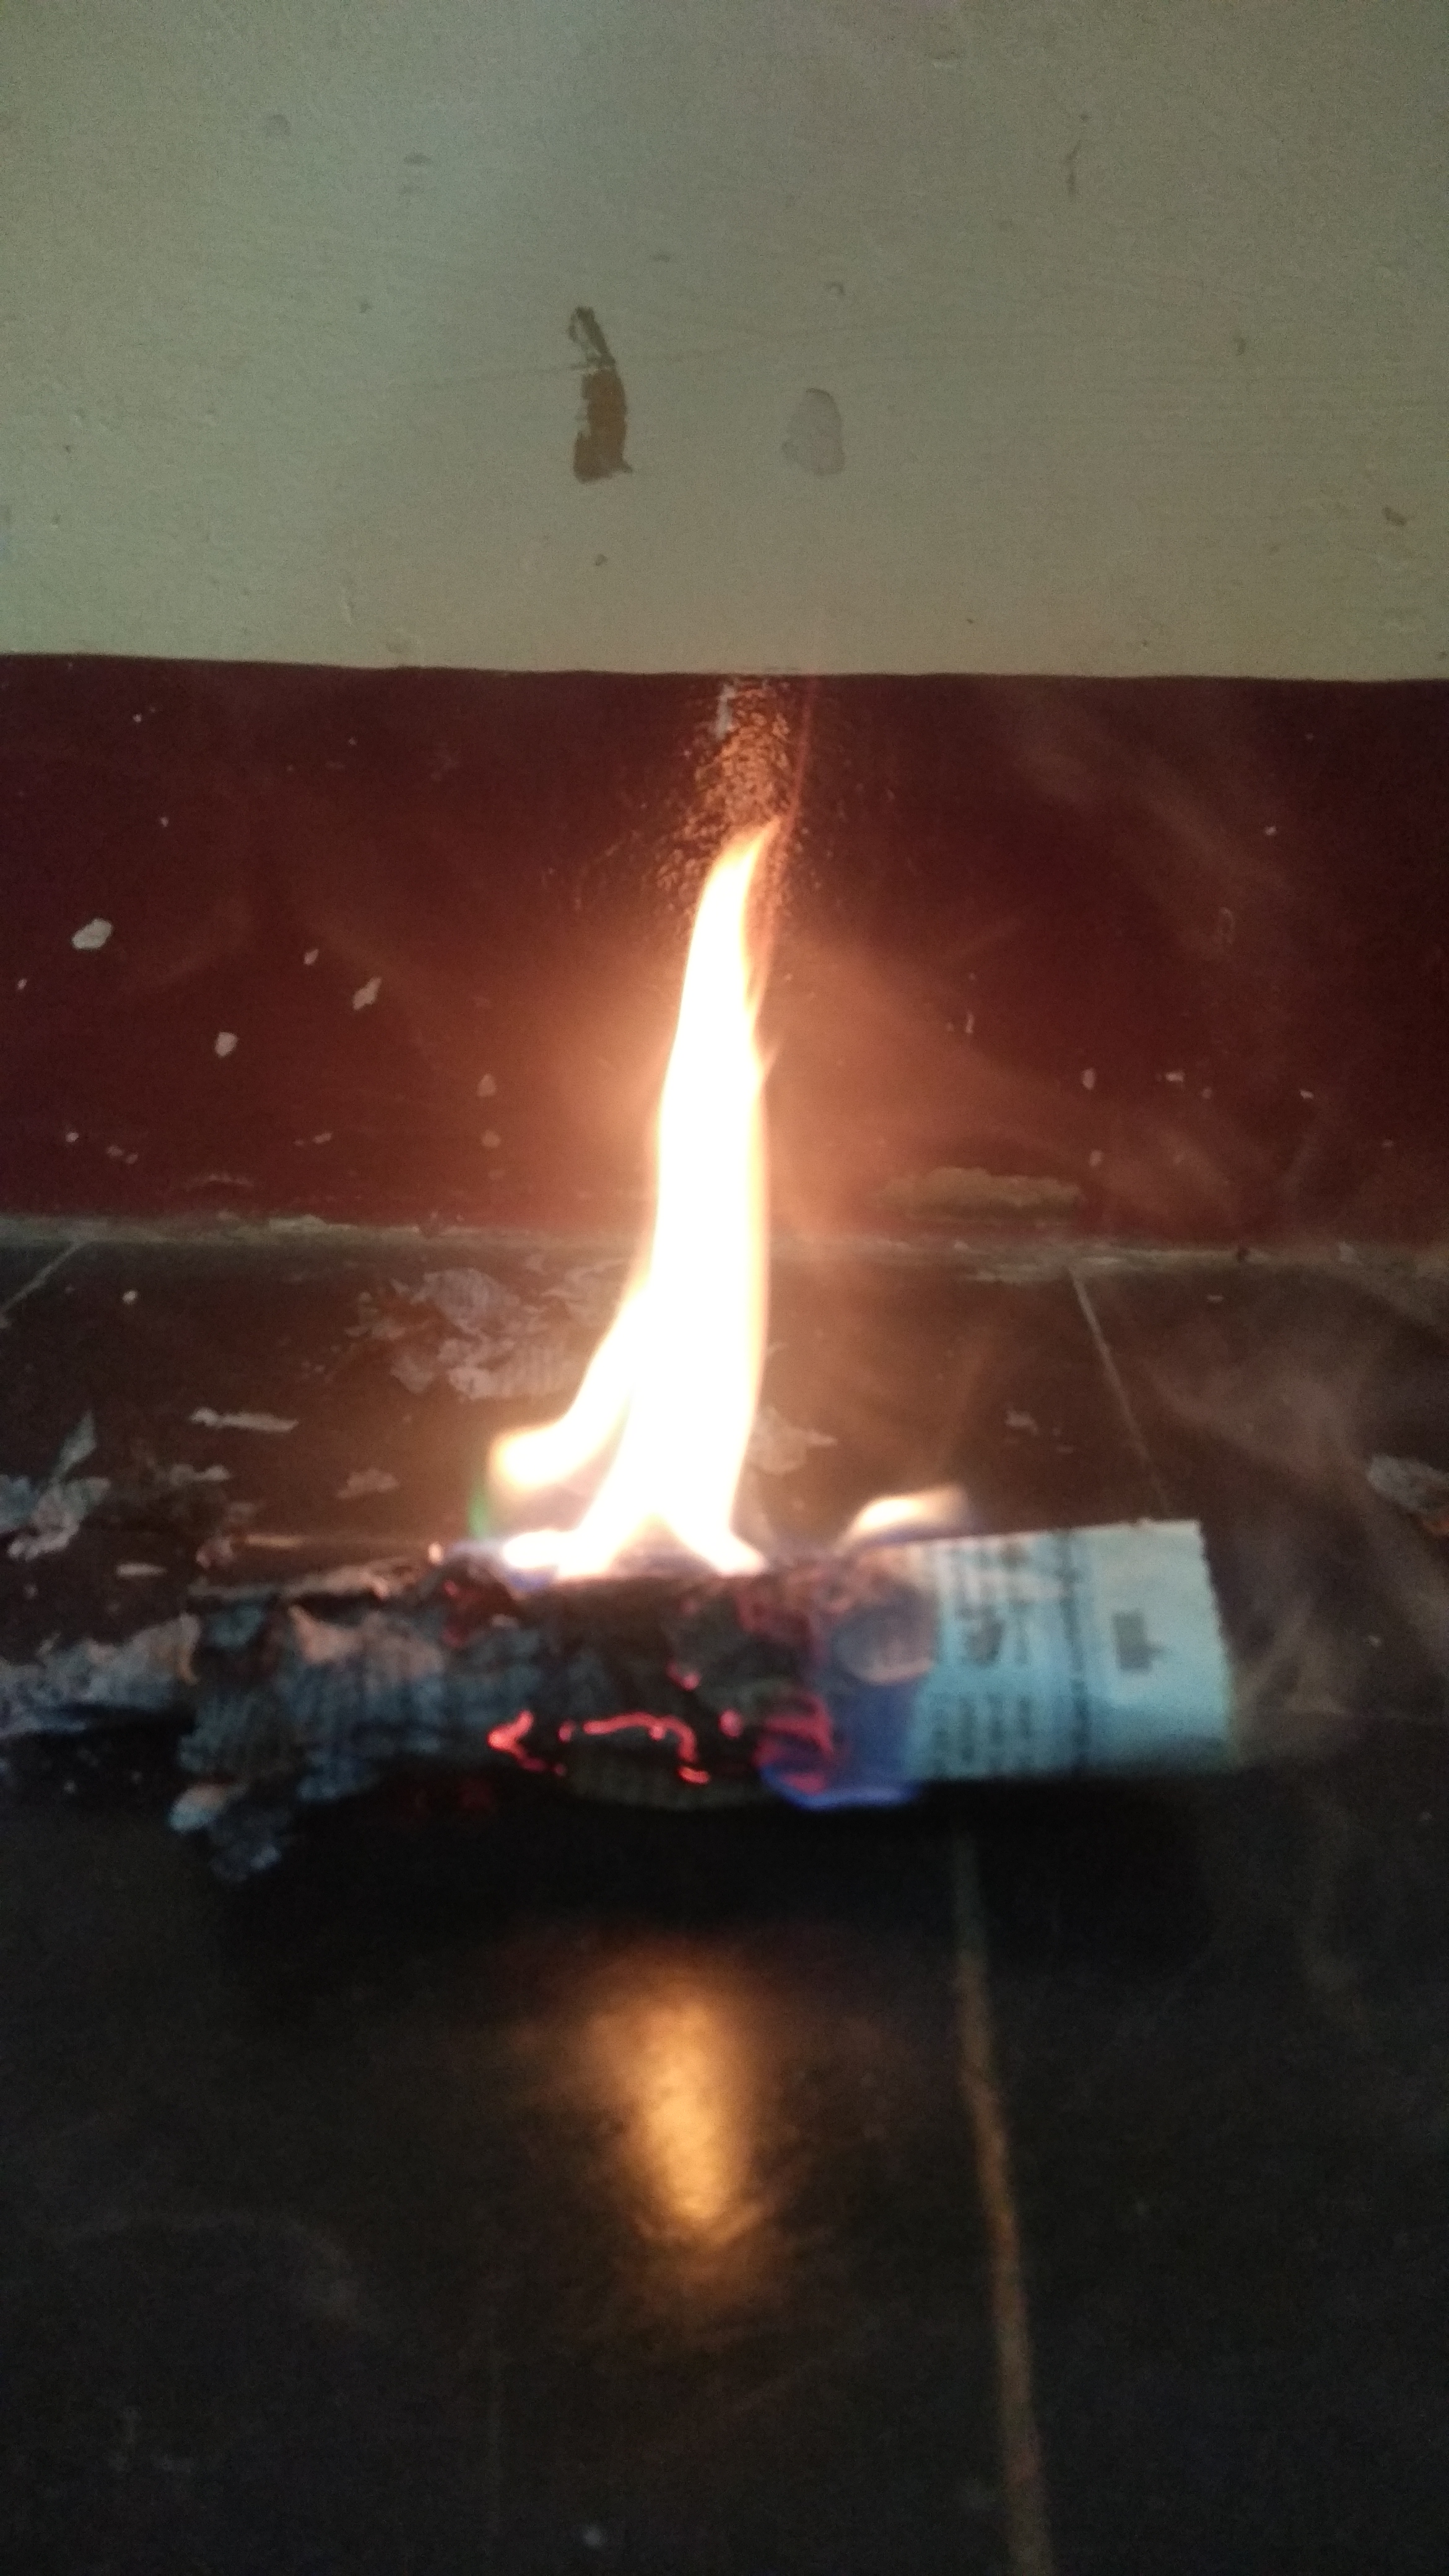Fire: (455, 789, 835, 1622)
Smoke: (908, 798, 1410, 1437)
